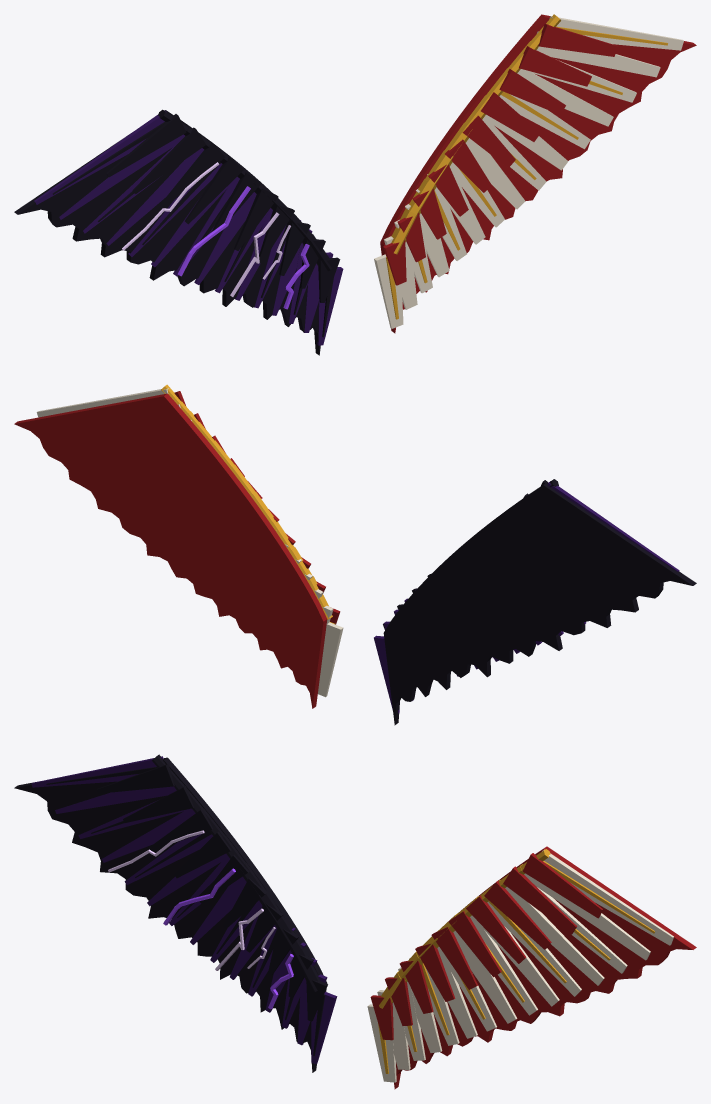
The model's file is DuelWings.fbx.
3 views of the same model, one above another, from view 1: azimuth 30°, elevation 25°; view 2: azimuth 150°, elevation 25°; view 3: azimuth 330°, elevation 25° (orthographic).
Parts seen in each view (by area): view 1: DuelWings; view 2: DuelWings; view 3: DuelWings.
Boxes of the visible parts, <box> form: DuelWings: <box>14,14,696,355</box>; DuelWings: <box>14,384,696,725</box>; DuelWings: <box>14,754,696,1089</box>.
Bounding box in the file's own units: 9.8 × 3.89 × 0.3244.
1 material, 1 textured.
